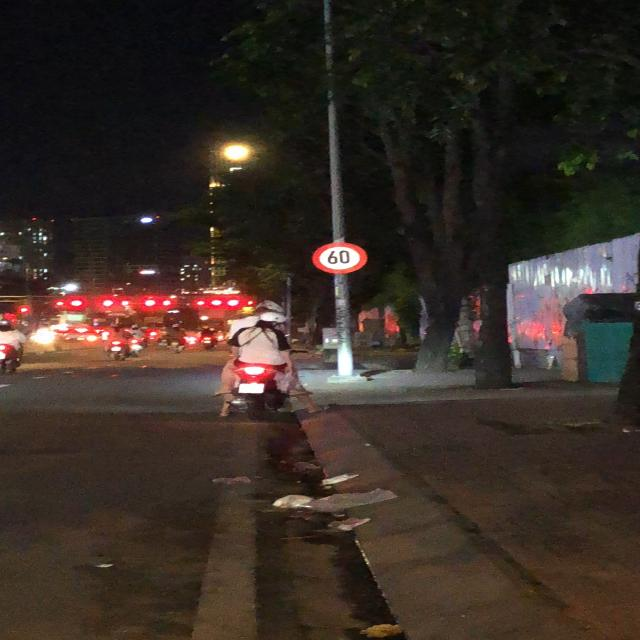Bien bao toc do toi da cho phep: (311, 237, 366, 274)
